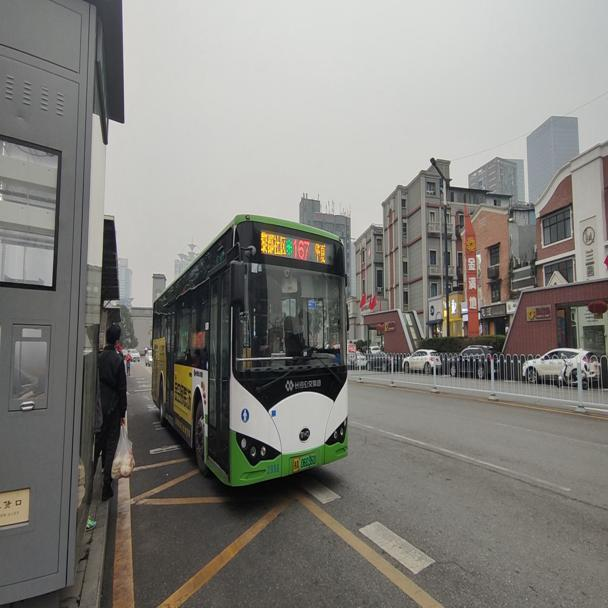bus: (150, 208, 351, 493)
screen: (293, 237, 309, 259)
